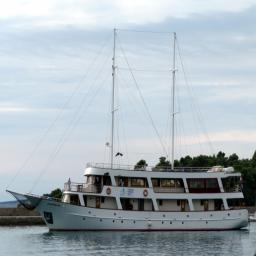cruises: (25, 156, 253, 235)
